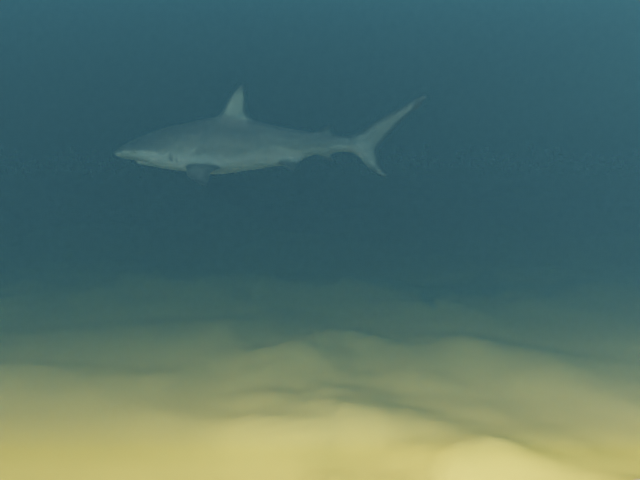Carribean Shark.001: (114, 84, 426, 185)
